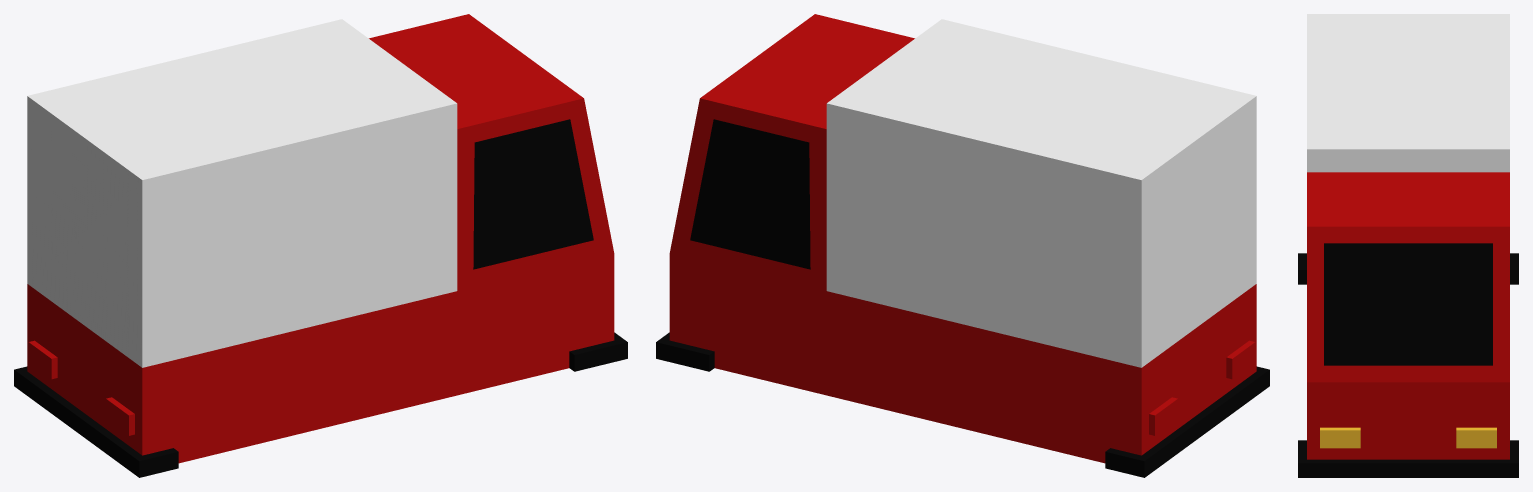
File: CityTruckA_02.fbx
3 views of the same model, side by side, from view 1: azimuth 30°, elevation 25°; view 2: azimuth 150°, elevation 25°; view 3: azimuth 270°, elevation 25° (orthographic). The views are drawn at different scales.
Visible parts, largest first — view 1: CityTruckA_02; view 2: CityTruckA_02; view 3: CityTruckA_02.
Boxes of the visible parts, x1,y1,x2,y2 form: CityTruckA_02: [14, 14, 627, 477]; CityTruckA_02: [656, 14, 1269, 477]; CityTruckA_02: [1298, 14, 1518, 477].
Bounding box in the file's own units: 0.5913 × 0.3379 × 0.2626.
